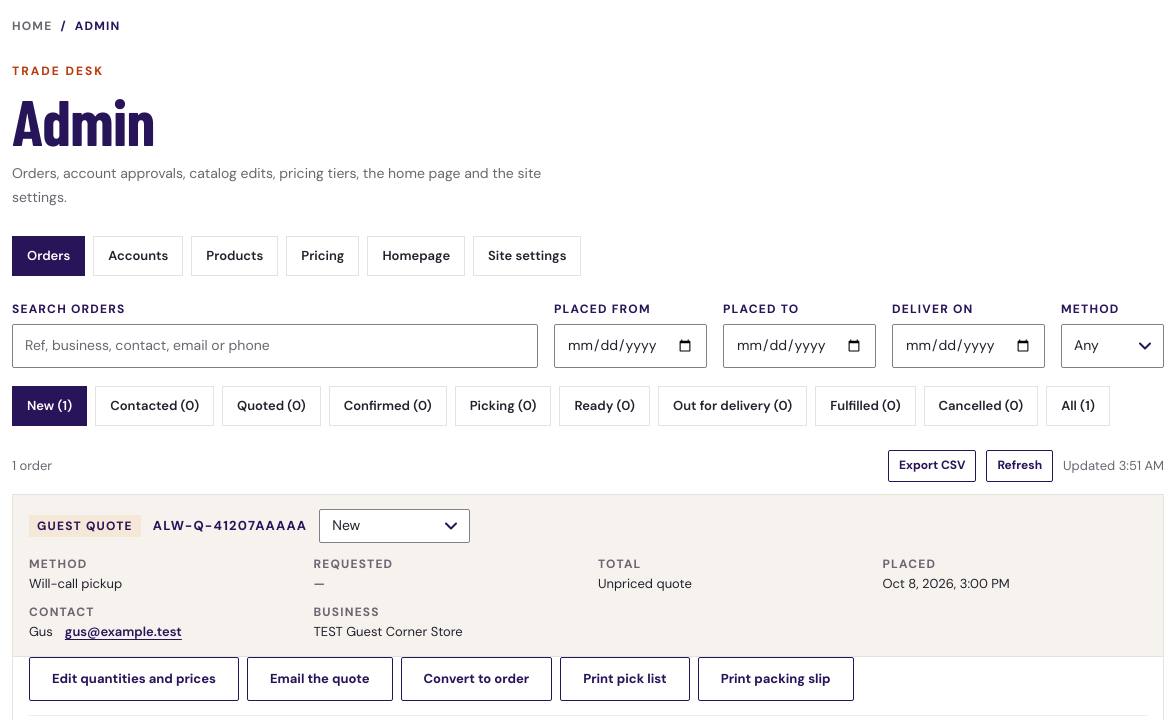
other order status changes › keep a moved order through the live reloads, until Refresh or another filter
The image size is (1176, 720).
Select "Contacted" in the dropdown named "Status for ALW-Q-41207AAAAA": x=395, y=526 [319,509,470,543]
Wait 60000 ms
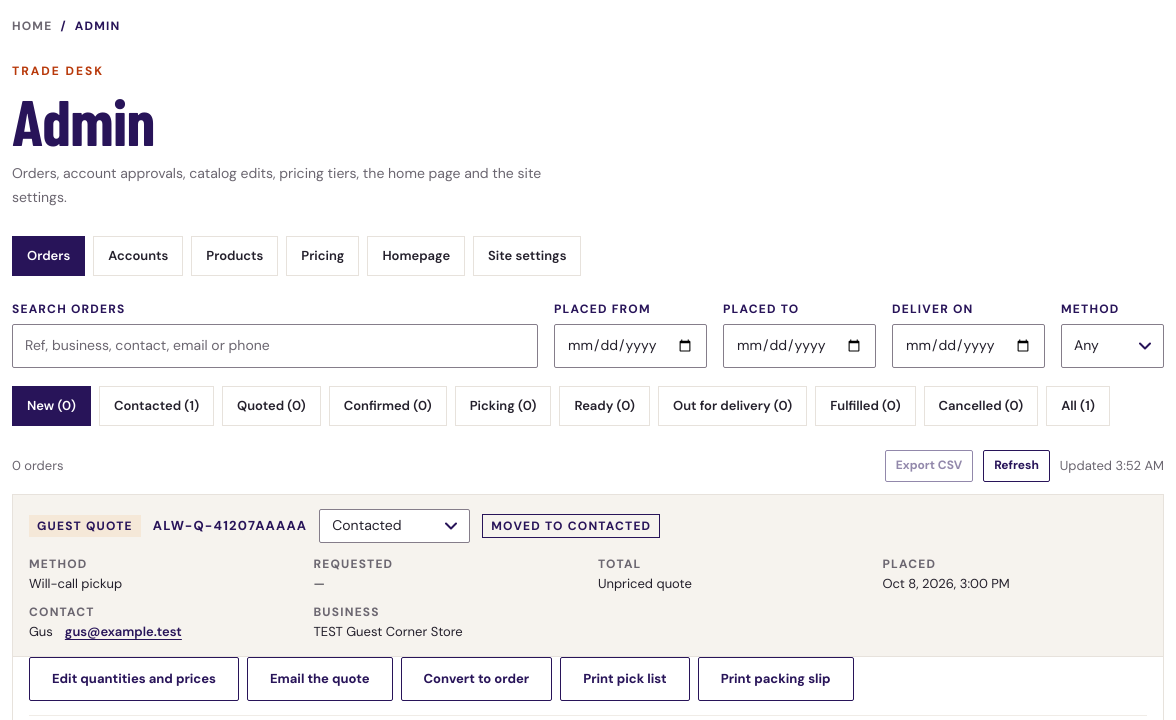
Result: the text "Moved to Contacted" is shown at [482,514,660,538]
Note: Another filter and back: it is in "contacted" now.
Click the button "Contacted (1)": x=156, y=406 [99,386,214,426]
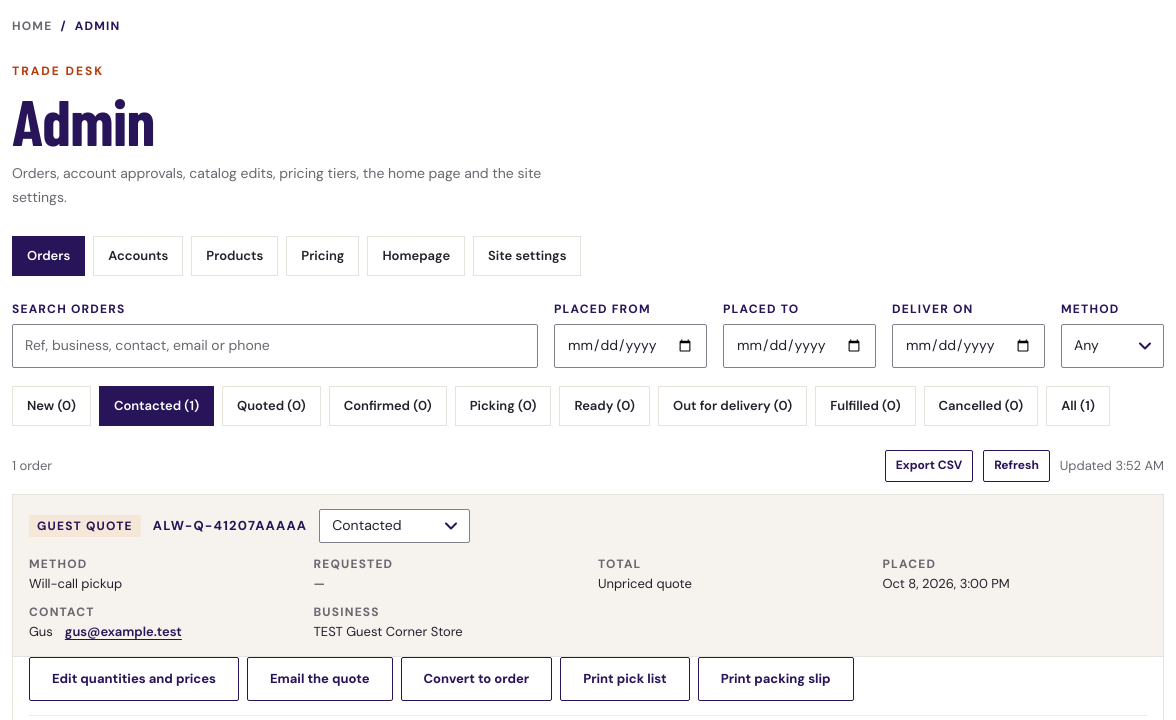
Result: the text "Moved to" is gone
Click the button "New (0)": x=51, y=406 [12,386,91,426]
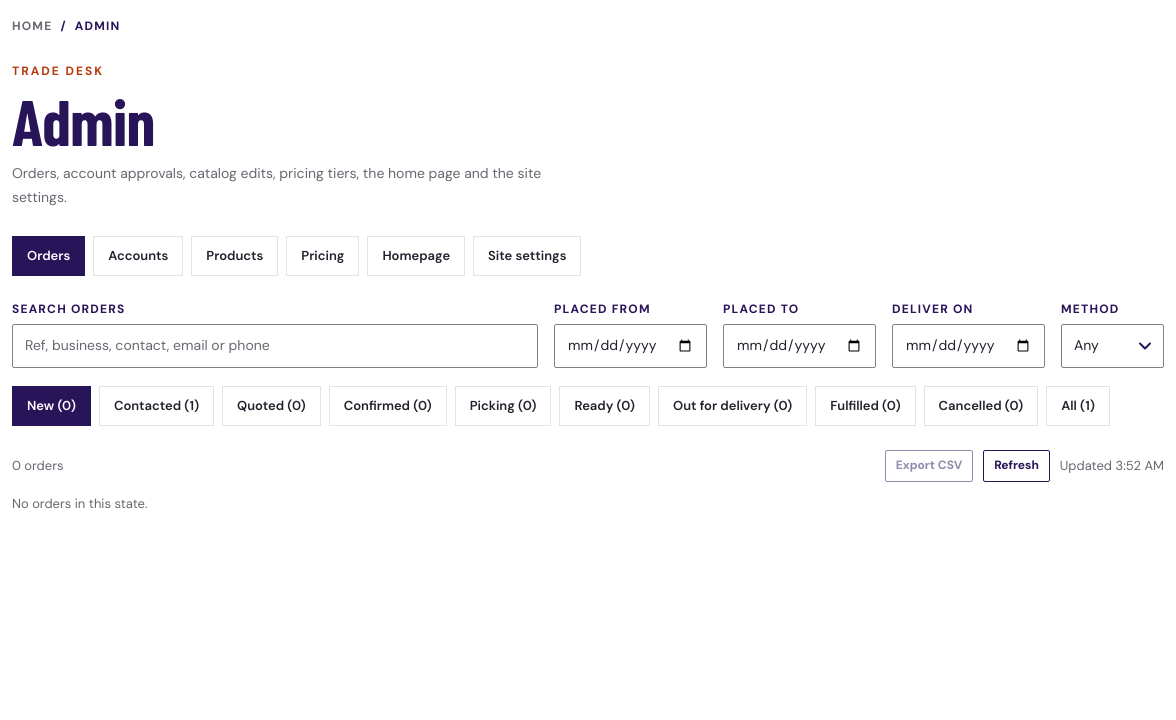
Result: the text "ALW-Q-41207AAAAA" is gone
Click the button "Contacted (1)": x=156, y=406 [99,386,214,426]
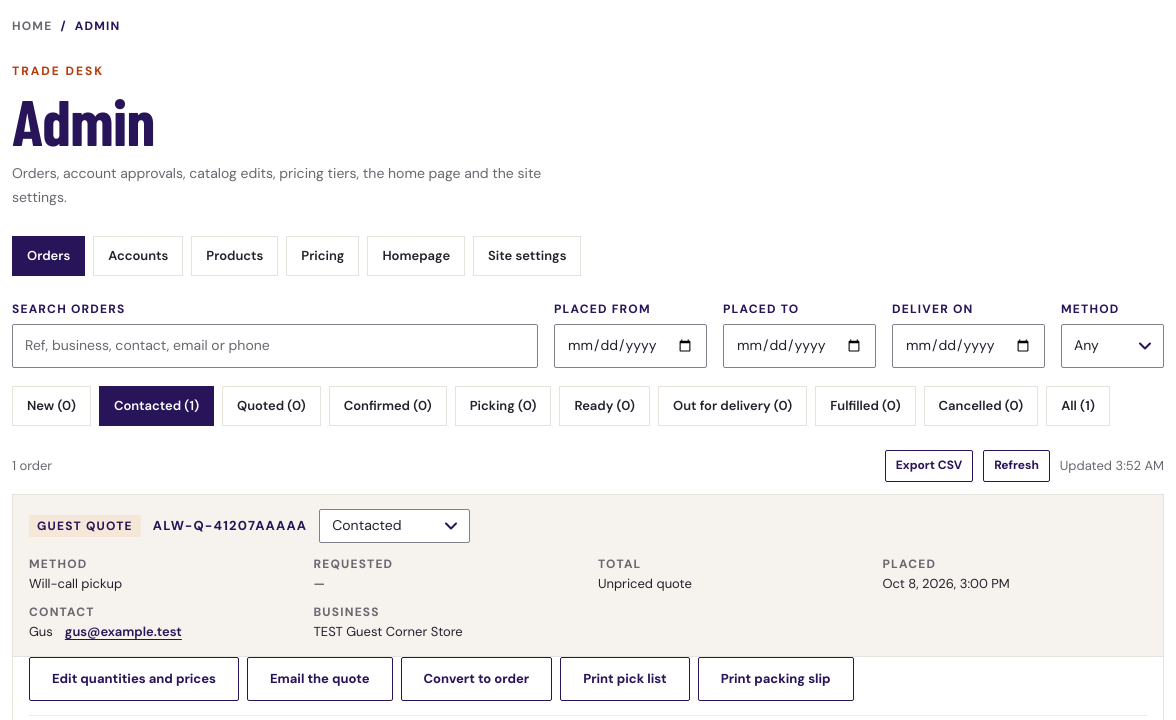
Select "Quoted" in the dropdown named "Status for ALW-Q-41207AAAAA": x=395, y=526 [319,509,470,543]
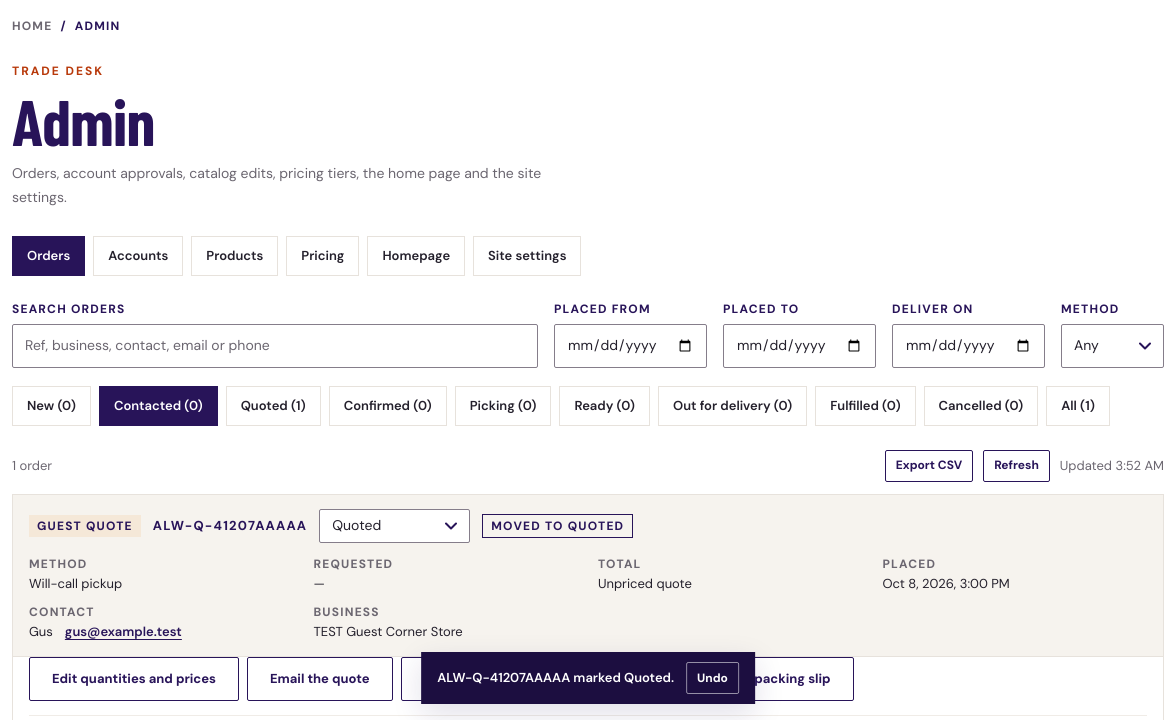
Result: the text "Moved to Quoted" is shown at [482,514,633,538]
Click the button "Refresh": x=1017, y=466 [983,450,1050,482]
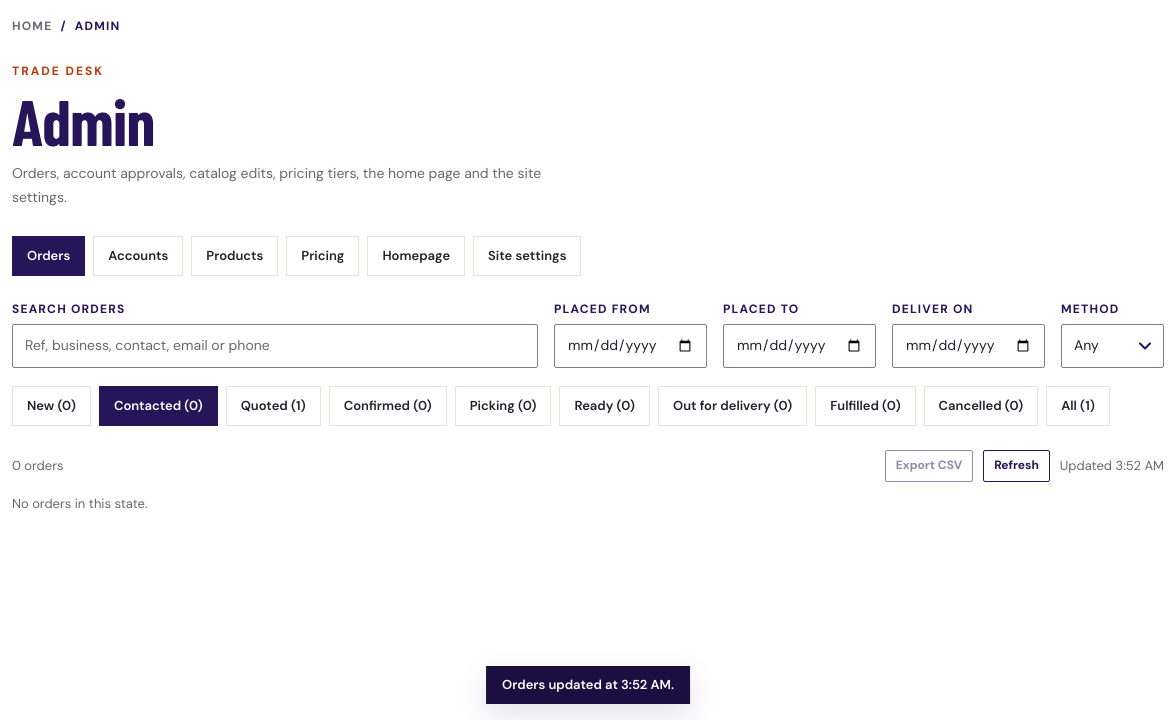
Result: the text "ALW-Q-41207AAAAA" is gone
